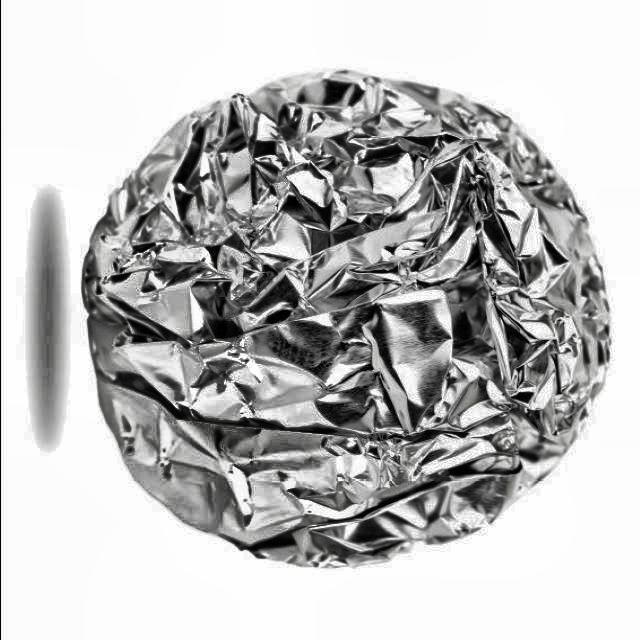metal: (79, 66, 615, 573)
